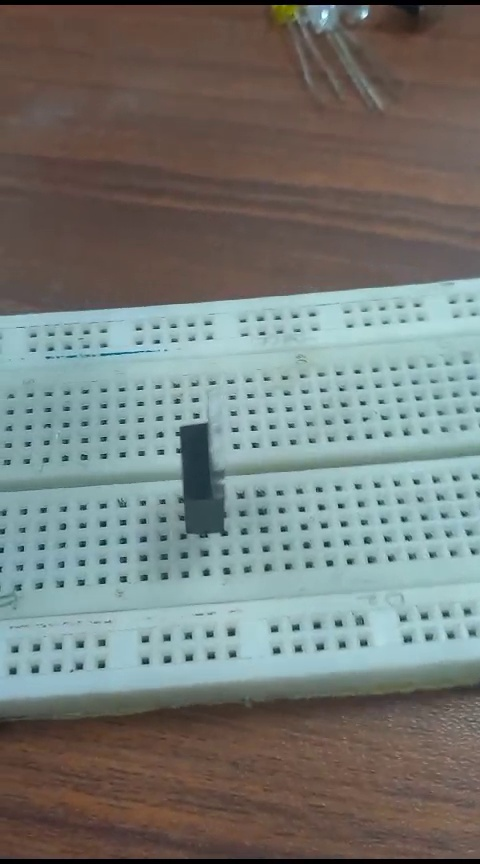voltage regulator: (156, 384, 229, 563)
